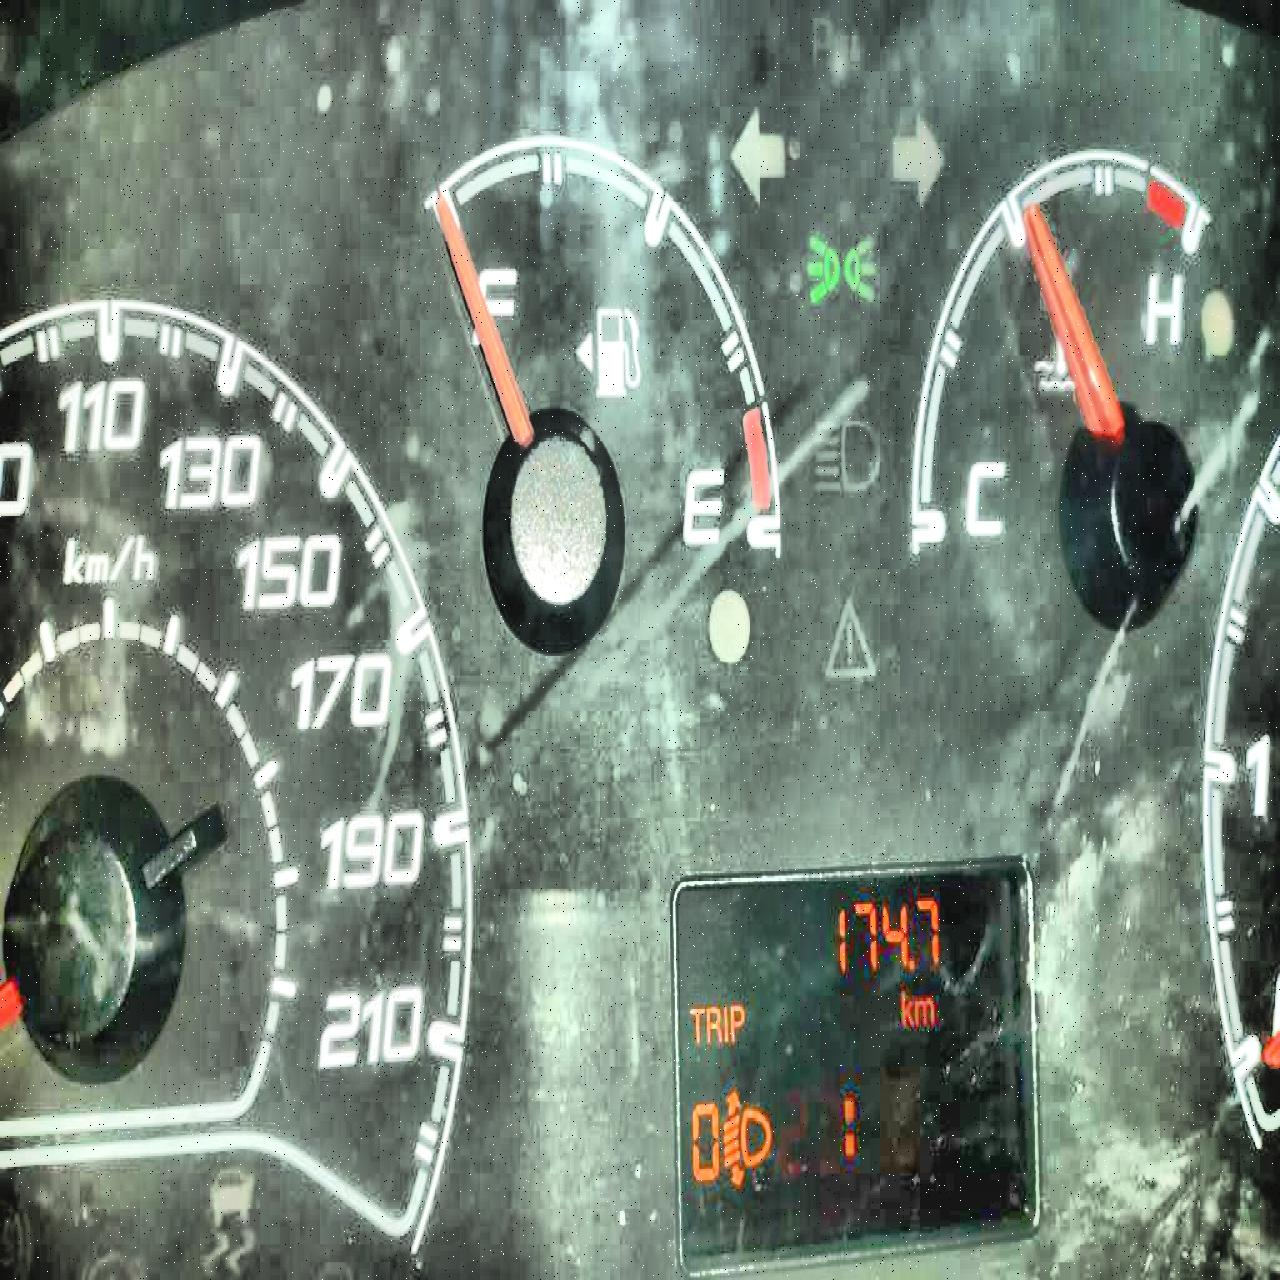-: (907, 953, 913, 971)
0: (689, 1096, 719, 1185)
1: (835, 900, 847, 975)
4: (880, 898, 907, 972)
7: (852, 898, 878, 973), (915, 893, 942, 965)
X: (837, 1087, 858, 1171), (686, 1000, 703, 1049), (703, 1000, 721, 1049), (914, 993, 937, 1027), (730, 998, 745, 1042), (899, 987, 913, 1027), (722, 998, 729, 1049)
odometer: (663, 859, 1057, 1265)
